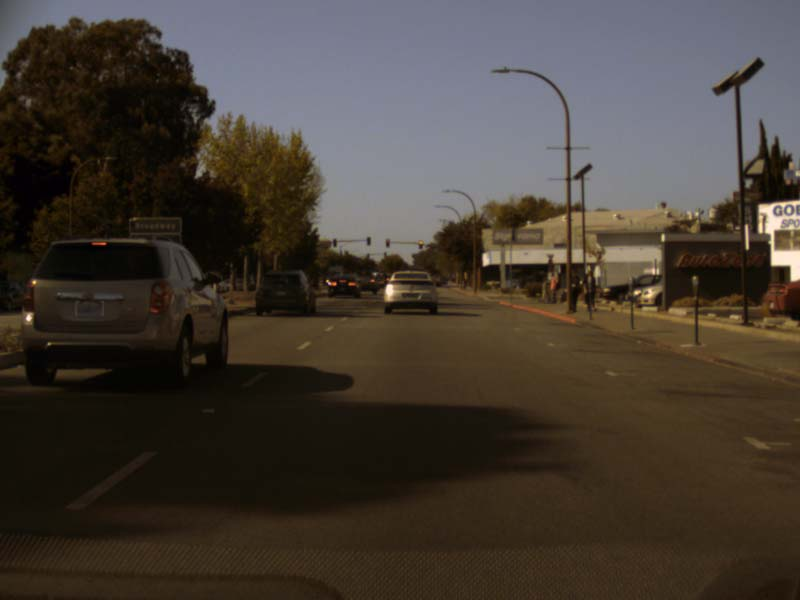Red: (385, 239, 389, 247), (419, 240, 422, 248)
